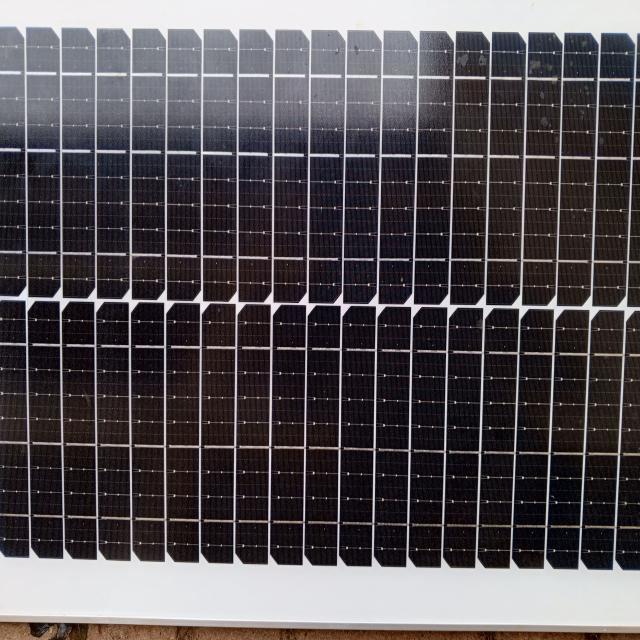Clean: (0, 9, 640, 589)
